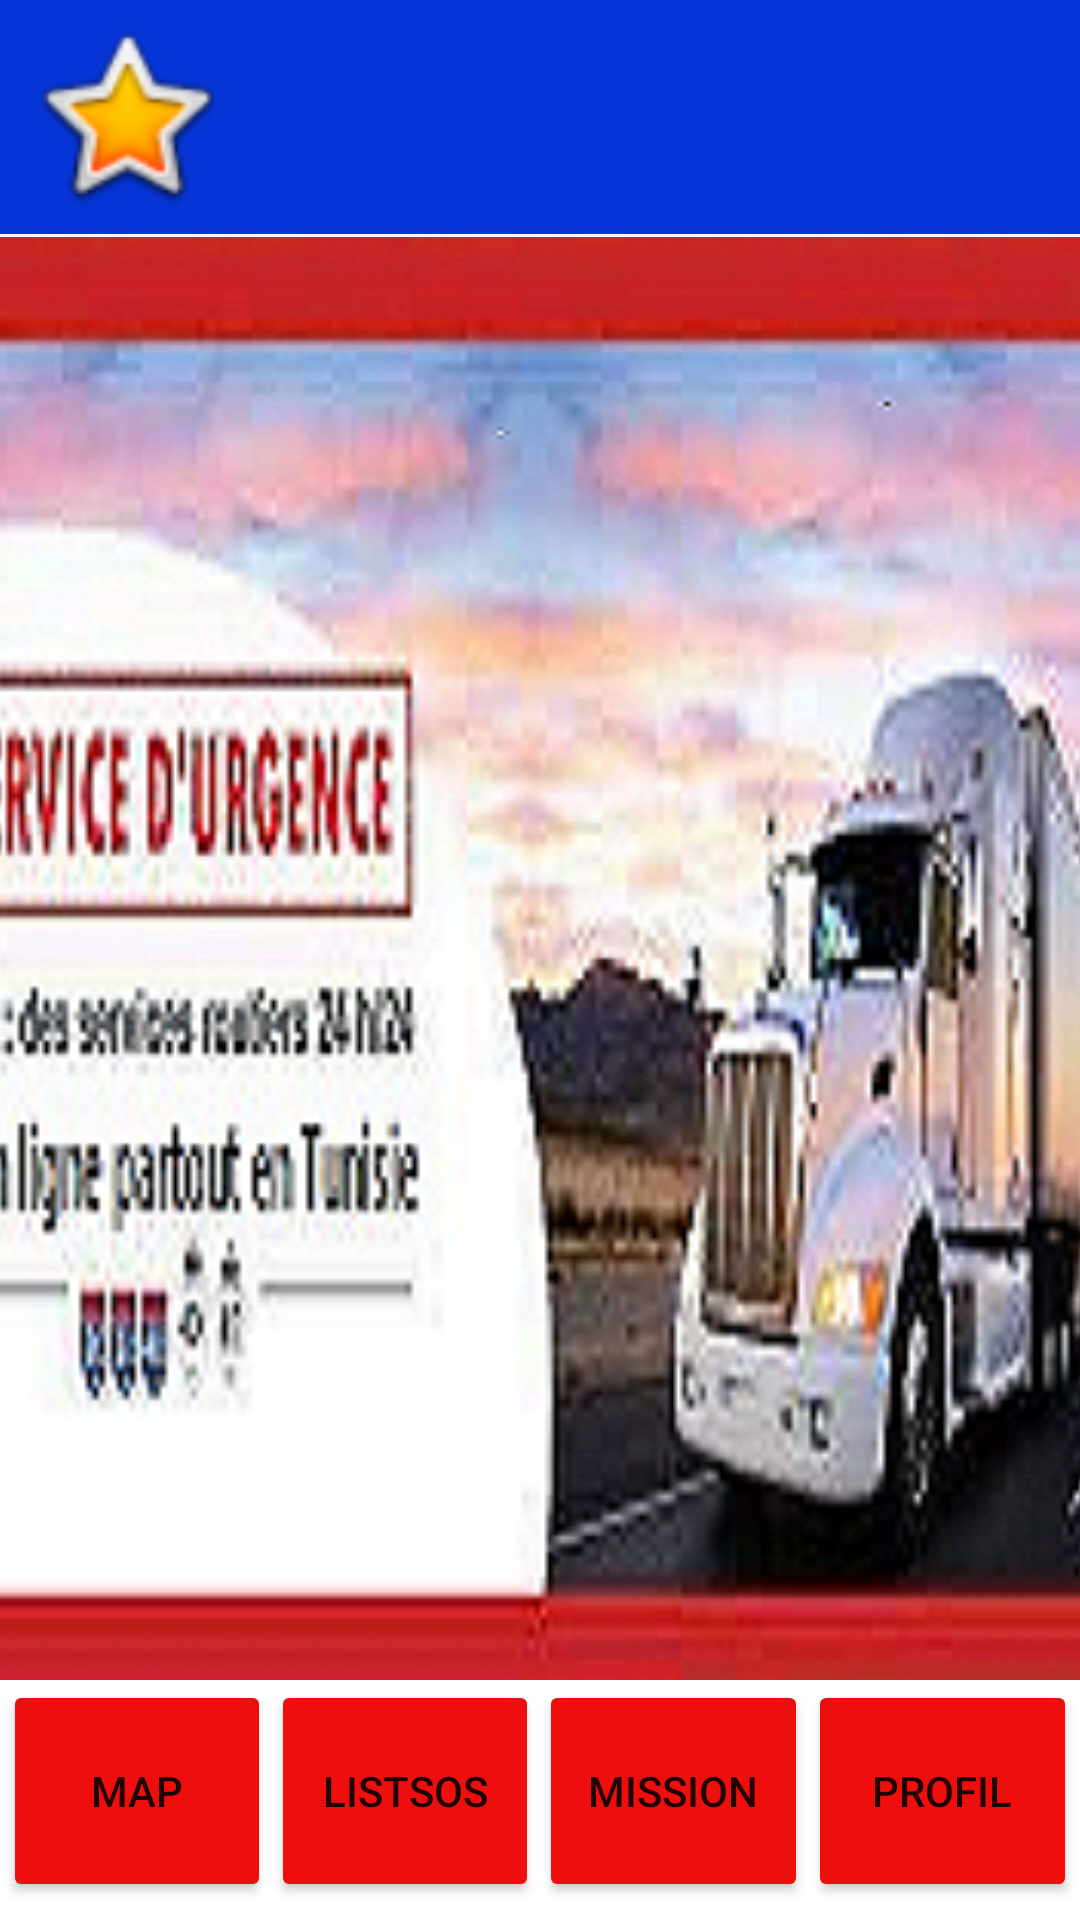

Named icons in this screenshot (1080px x 1920px) and their bounding boxes, [x1=x1, y1=y1, x2=x2, y2=y2]:
star on: [x1=42, y1=33, x2=214, y2=201]
